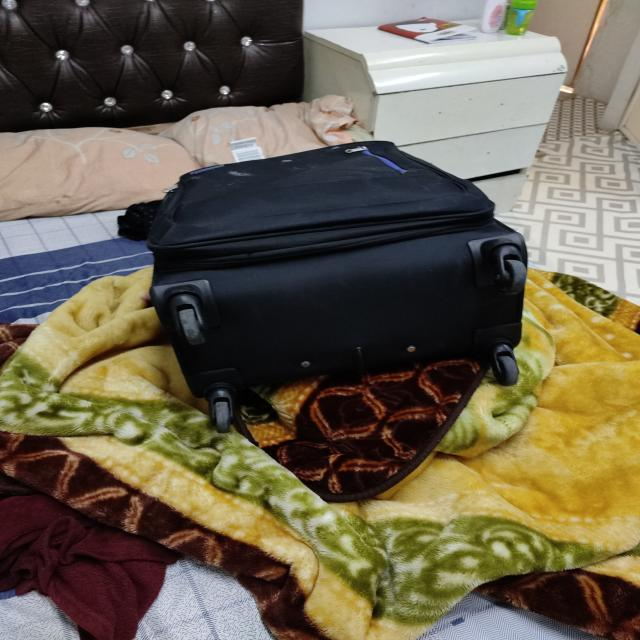suitcaserotation: (143, 137, 533, 436)
